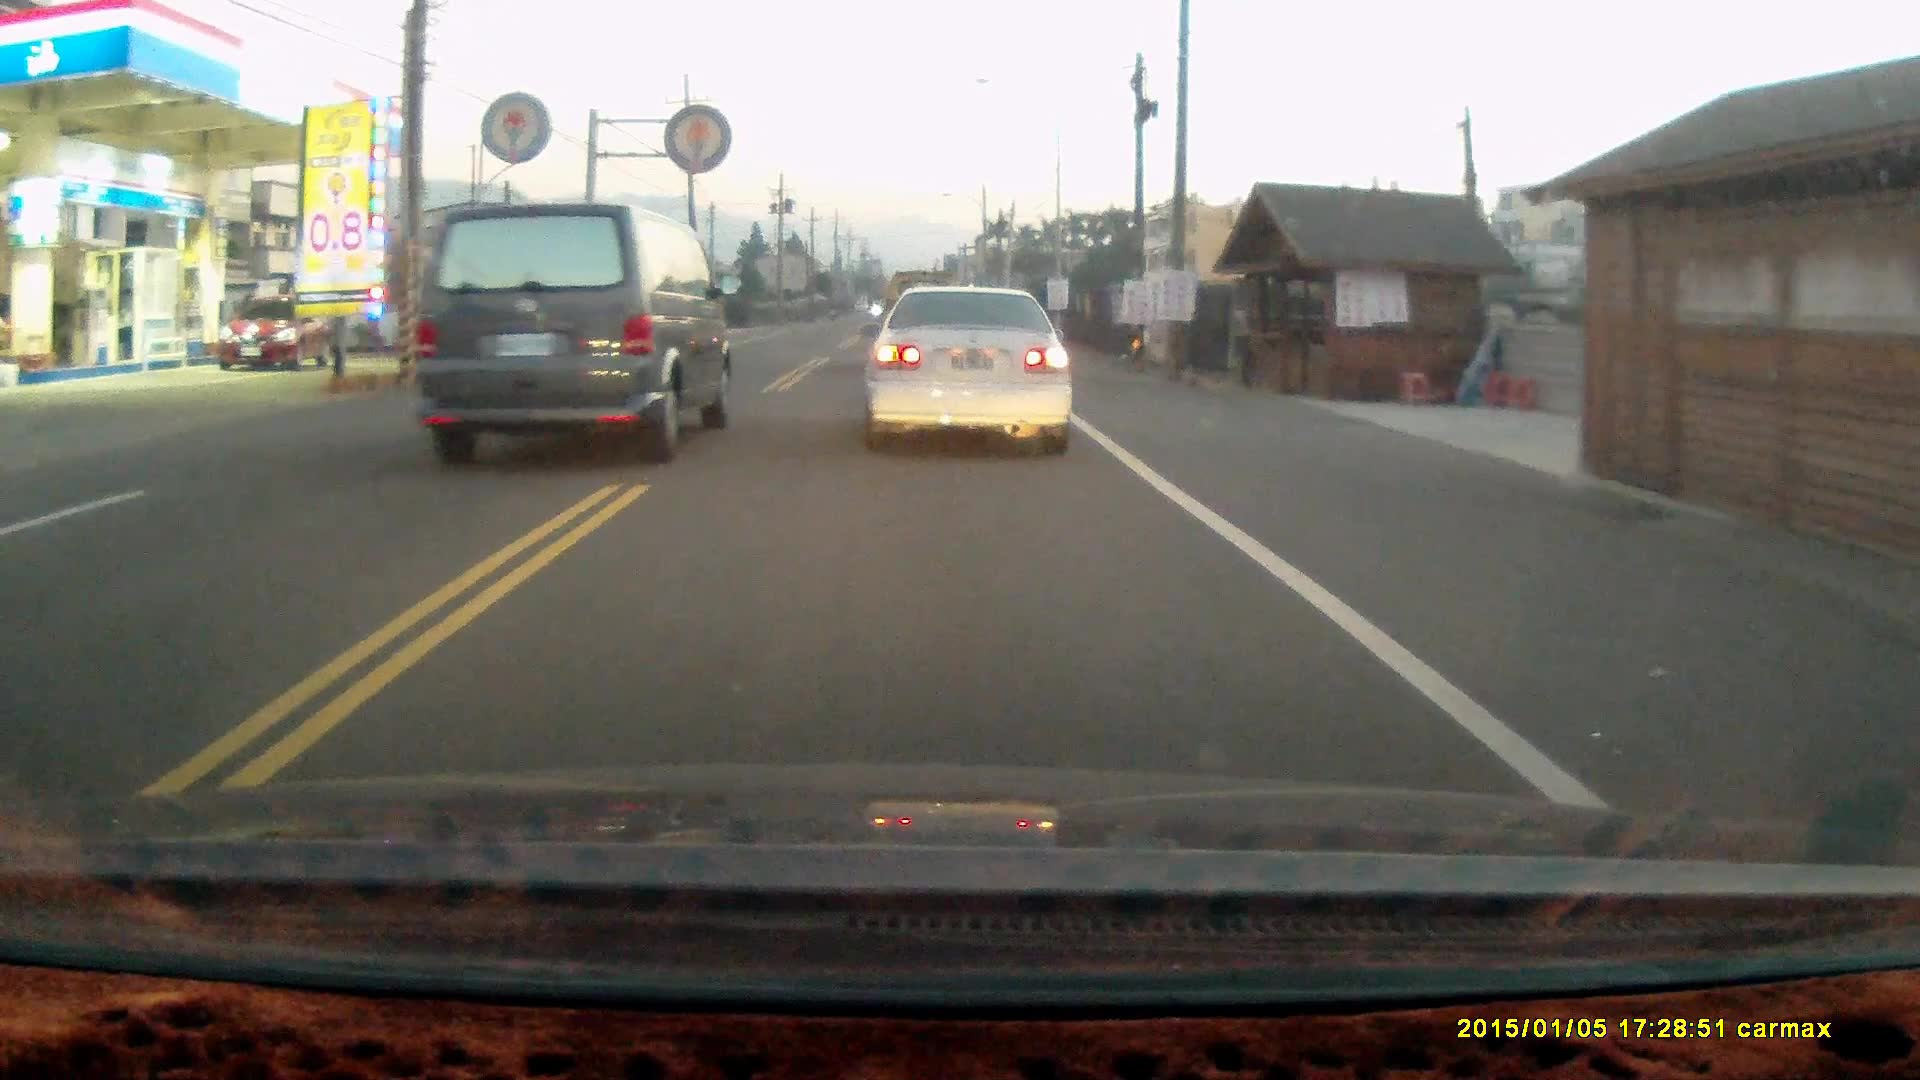vehicle: (407, 199, 736, 462), (862, 281, 1083, 462), (222, 293, 320, 371)
